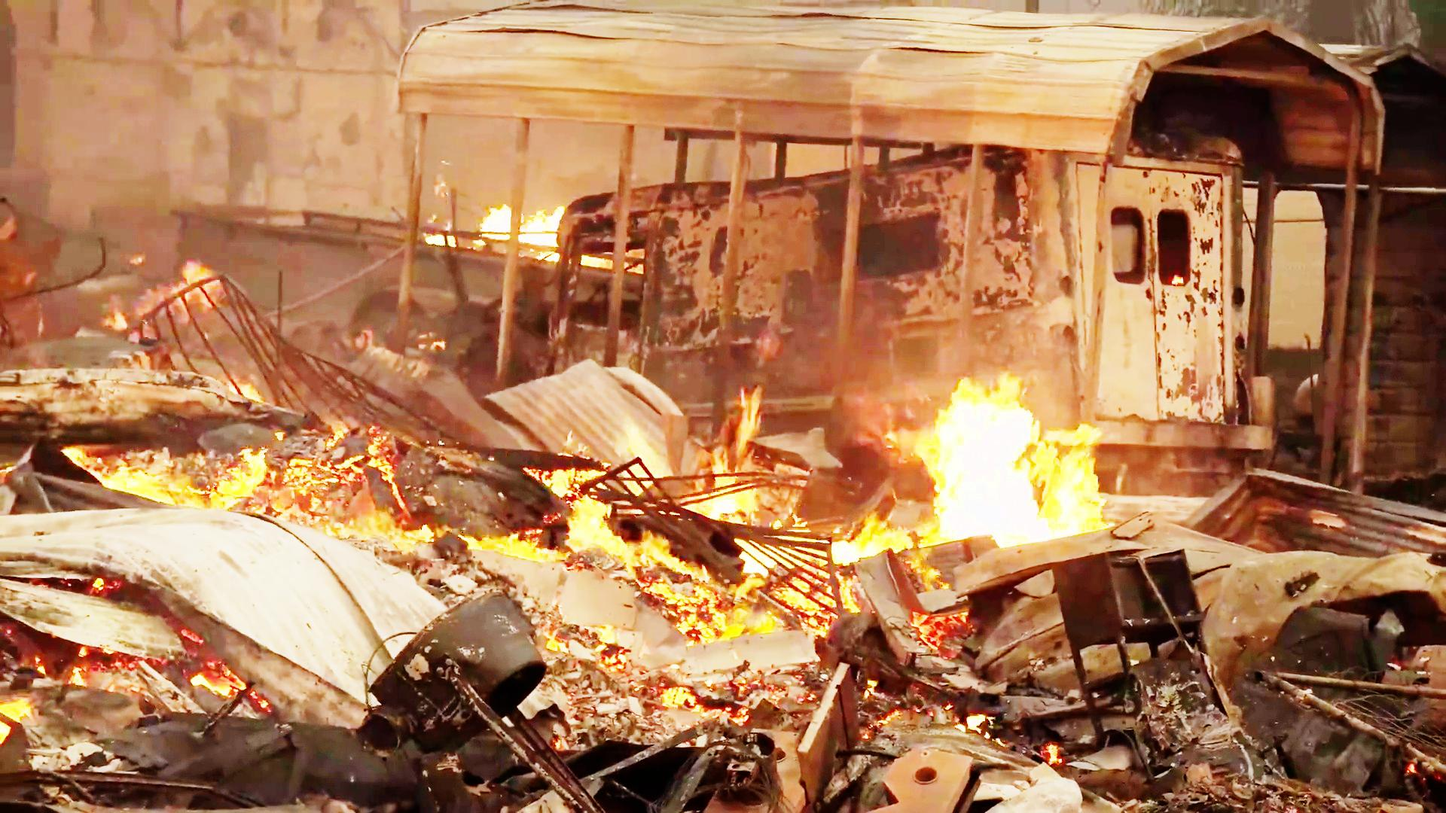fire: (878, 364, 1114, 544)
